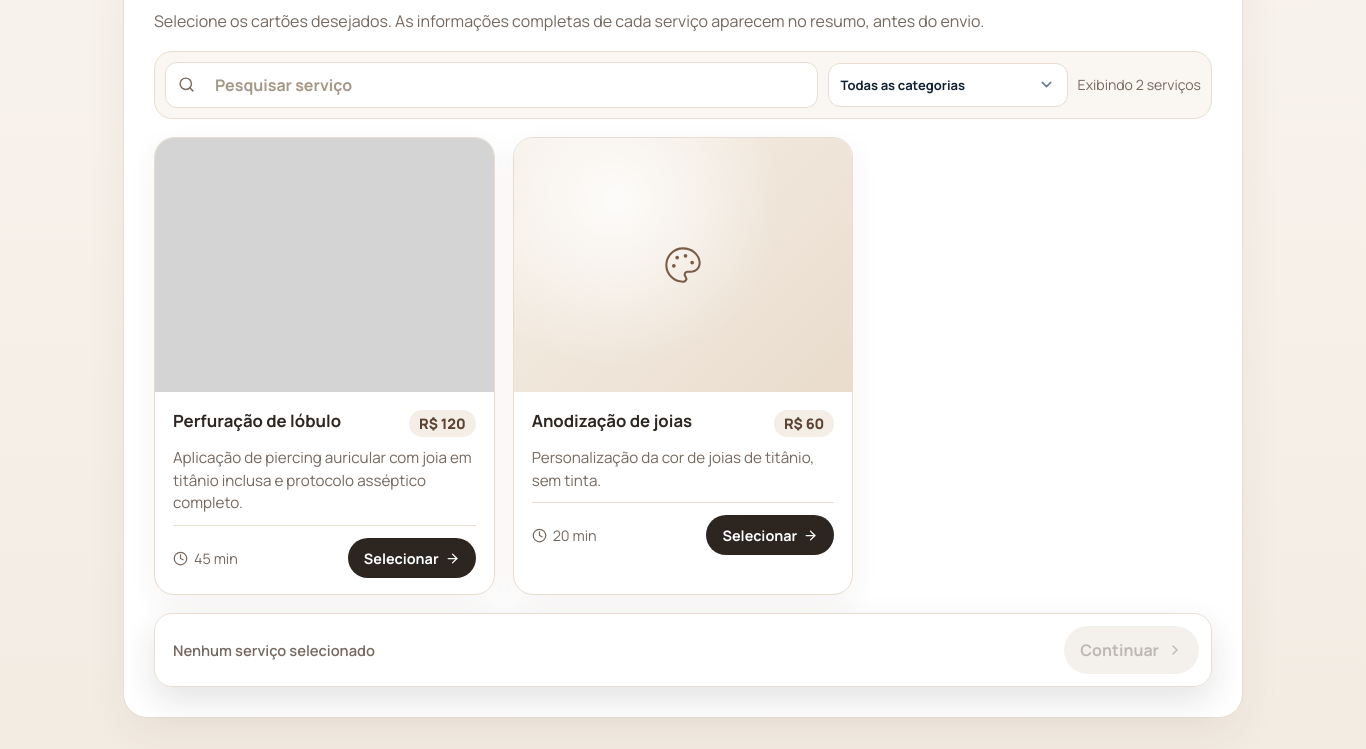
PublicBooking · apresentação dos serviços › seleciona vários serviços sem depender só da cor
(page scrolled)
What coordinates should you click on to do the following:
click the button "Perfuração de lóbulo"
I would click on:
 (324, 366)
Its box is [154,137,495,595].
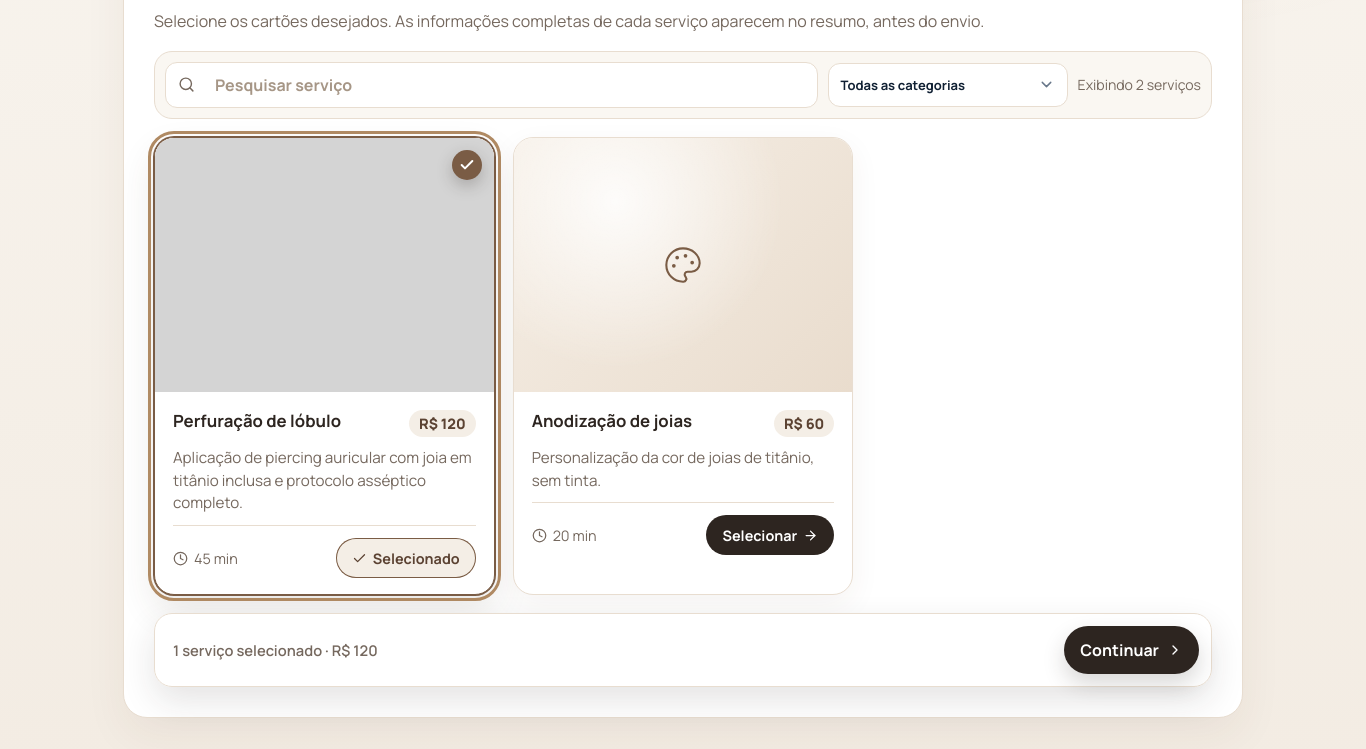
What coordinates should you click on to do the following:
click the button "Anodização de joias"
I would click on:
 (683, 366)
Its box is [513,137,853,595].
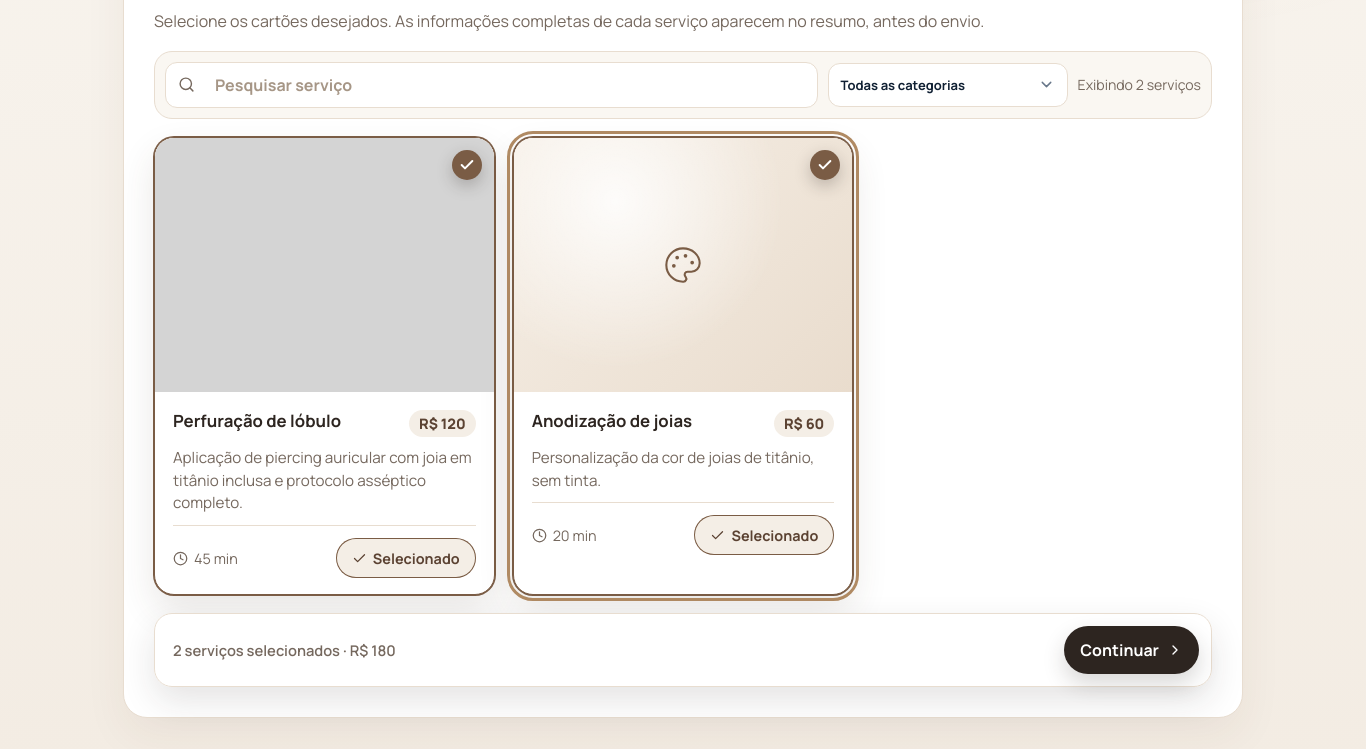
Check: the text "2 serviços selecionados · R$ 180" is shown, box [173,640,396,660]
